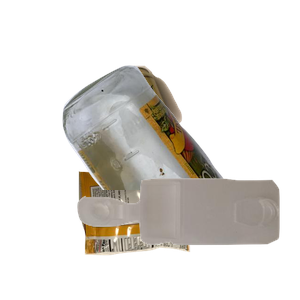glass: (60, 63, 300, 243)
metal: (105, 63, 300, 192)
plastic: (75, 176, 300, 300)
trash: (76, 159, 259, 300)
